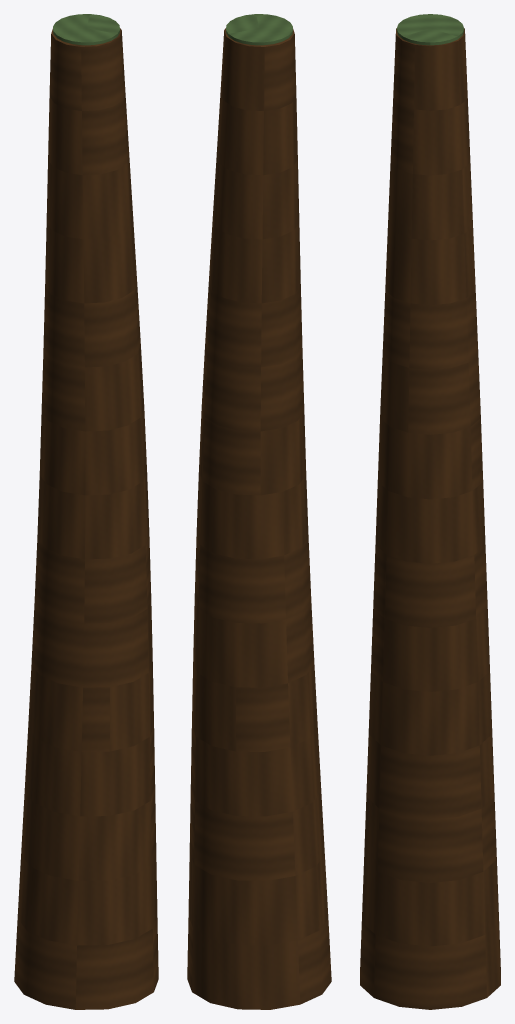
The model's file is underworld-flora-harvest-glowcap-felled.glb.
3 views of the same model, side by side, from view 1: azimuth 30°, elevation 25°; view 2: azimuth 150°, elevation 25°; view 3: azimuth 270°, elevation 25° (orthographic).
Visible parts, largest first — view 1: cut-stalk, cut-face; view 2: cut-stalk, cut-face; view 3: cut-stalk, cut-face.
Part boxes in pixels (<box>): cut-stalk: <box>14,28,158,1009</box>; cut-face: <box>53,14,119,45</box>; cut-stalk: <box>187,28,331,1009</box>; cut-face: <box>226,14,292,45</box>; cut-stalk: <box>360,28,500,1009</box>; cut-face: <box>396,14,464,45</box>.
Bounding box in the file's own units: 0.8999 × 6.53 × 0.8774.
2 materials, 2 textured.
